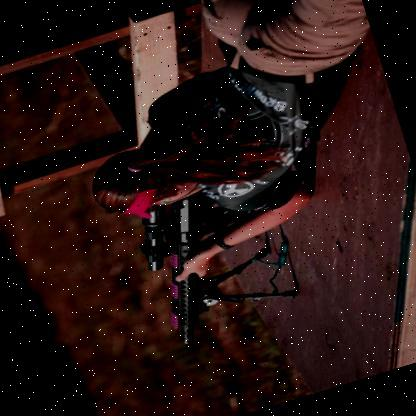rifle: (117, 167, 280, 349)
